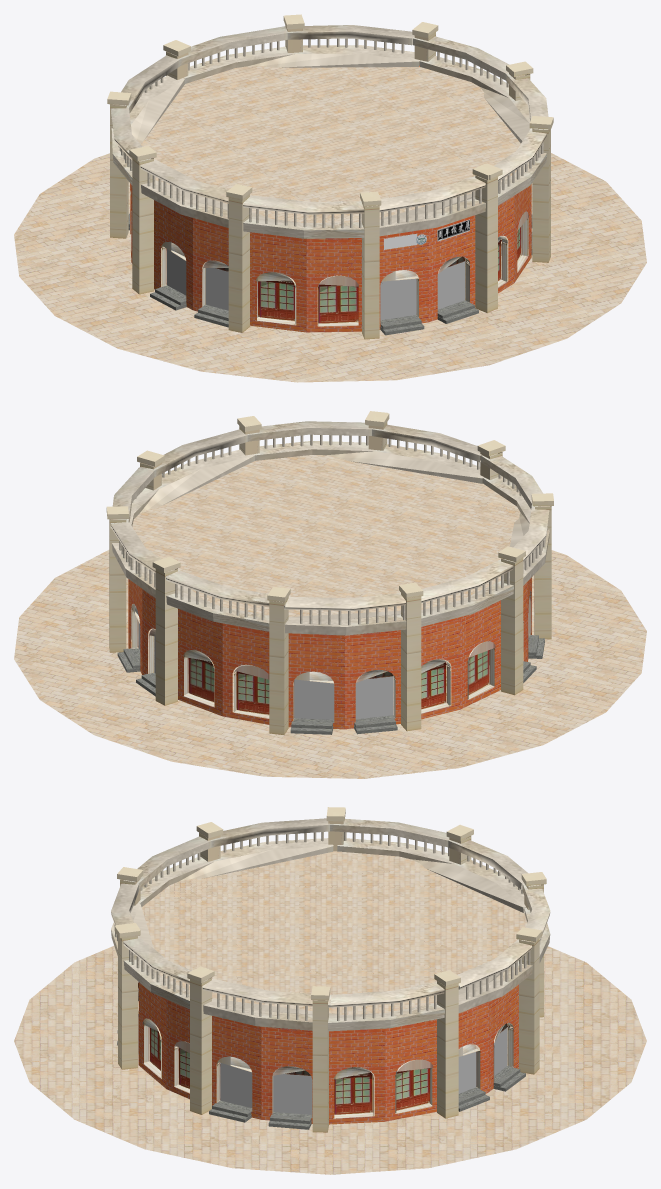
Rendered from 校史馆 2.fbx.
3 views of the same model, one above another, from view 1: azimuth 30°, elevation 25°; view 2: azimuth 150°, elevation 25°; view 3: azimuth 270°, elevation 25° (orthographic).
Parts seen in each view (by area): view 1: polySurface203, polySurface205, polySurface249, polySurface253, polySurface251, polySurface300, polySurface301, polySurface154, polySurface156, polySurface243, polySurface242, polySurface169 (+10 smaller); view 2: polySurface203, polySurface205, polySurface250, polySurface251, polySurface253, polySurface161, polySurface155, polySurface291, polySurface163, polySurface169, polySurface305, polySurface304 (+12 smaller); view 3: polySurface203, polySurface205, polySurface291, polySurface251, polySurface249, polySurface250, polySurface293, polySurface253, polySurface292, polySurface158, polySurface156, polySurface155 (+13 smaller).
Boxes of the visible parts, bbox=[...] form: polySurface203: bbox=[14, 153, 646, 382]; polySurface205: bbox=[141, 66, 520, 222]; polySurface249: bbox=[141, 180, 364, 326]; polySurface253: bbox=[379, 153, 547, 329]; polySurface251: bbox=[184, 45, 420, 83]; polySurface300: bbox=[250, 232, 306, 332]; polySurface301: bbox=[306, 238, 361, 332]; polySurface154: bbox=[166, 25, 414, 65]; polySurface156: bbox=[140, 159, 372, 214]; polySurface243: bbox=[475, 175, 497, 312]; polySurface242: bbox=[228, 194, 249, 332]; polySurface169: bbox=[132, 157, 153, 294]; polySurface203: bbox=[14, 550, 646, 778]; polySurface205: bbox=[132, 455, 520, 616]; polySurface250: bbox=[284, 581, 513, 729]; polySurface251: bbox=[112, 543, 269, 718]; polySurface253: bbox=[254, 441, 484, 483]; polySurface161: bbox=[247, 421, 481, 462]; polySurface155: bbox=[285, 559, 514, 610]; polySurface291: bbox=[129, 449, 254, 639]; polySurface163: bbox=[155, 568, 177, 705]; polySurface169: bbox=[501, 558, 523, 695]; polySurface305: bbox=[222, 623, 269, 724]; polySurface304: bbox=[178, 608, 222, 716]; polySurface203: bbox=[14, 946, 646, 1174]; polySurface205: bbox=[141, 851, 527, 1014]; polySurface291: bbox=[203, 998, 444, 1118]; polySurface251: bbox=[458, 907, 550, 1097]; polySurface249: bbox=[138, 838, 333, 906]; polySurface250: bbox=[337, 838, 525, 913]; polySurface293: bbox=[329, 1028, 385, 1124]; polySurface253: bbox=[111, 903, 189, 1093]; polySurface292: bbox=[385, 1019, 436, 1121]; polySurface158: bbox=[202, 978, 459, 1007]; polySurface156: bbox=[123, 818, 329, 889]; polySurface155: bbox=[330, 818, 527, 889].
Bounding box in the file's own units: 4.91 × 1.21 × 4.91.
